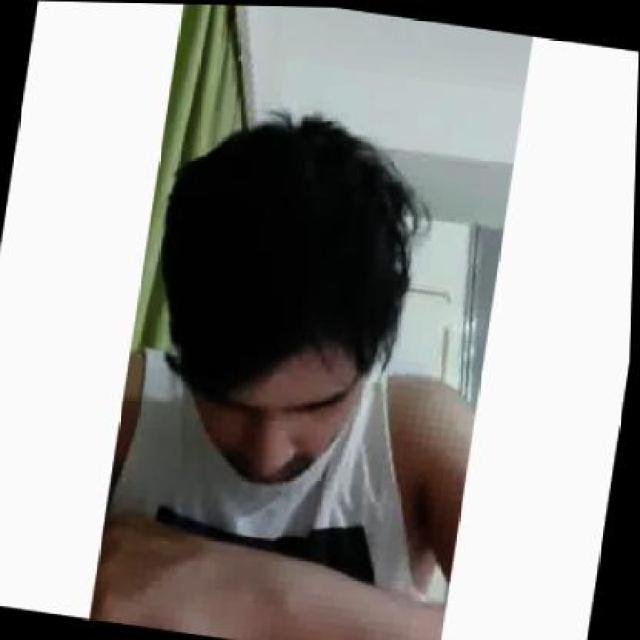inattentif: (138, 103, 402, 494)
